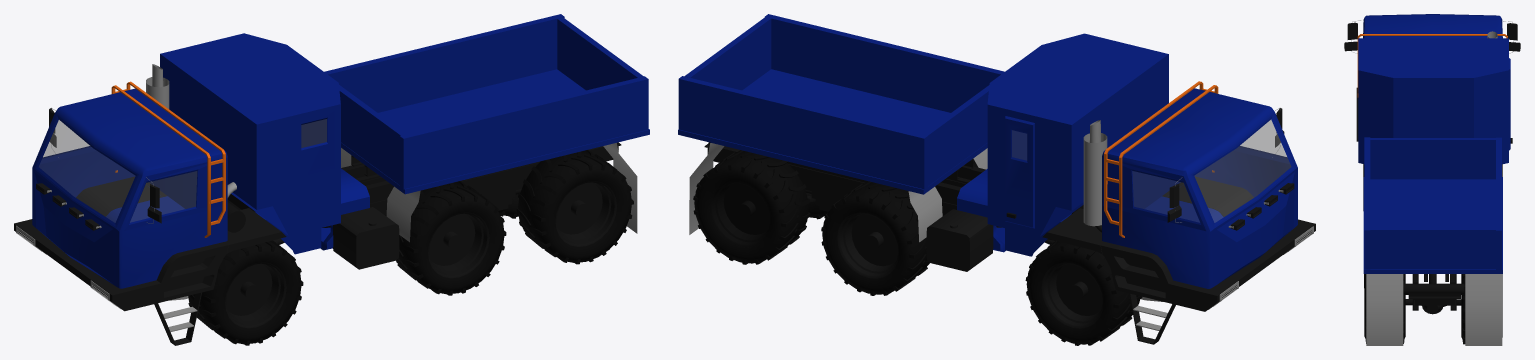
File: KamazArctica.fbx
The picture shows the model from 3 angles, left to right: view 1: azimuth 30°, elevation 25°; view 2: azimuth 150°, elevation 25°; view 3: azimuth 270°, elevation 25°; orthographic projection. The views are drawn at different scales.
Visible parts, largest first — view 1: Box010, Box007, Box016, Box015, Box008, Box006, Object087, Cylinder059, Cylinder056, Cylinder027, Object007, Box017 (+19 smaller); view 2: Box010, Box007, Box015, Box016, Box008, Box006, Object087, Cylinder068, Cylinder065, Cylinder062, Object007, Box017 (+19 smaller); view 3: Box010, Box008, Box018, Box017, Box007, Plane001, Plane005, Box016, Box015, Cylinder049, Box048, Cylinder059 (+6 smaller).
Part boxes in pixels (<box>): Box010: <box>160,33,340,235</box>; Box007: <box>32,88,227,288</box>; Box016: <box>399,76,648,189</box>; Box015: <box>324,14,564,112</box>; Box008: <box>341,69,649,194</box>; Box006: <box>14,176,228,311</box>; Object087: <box>39,120,196,222</box>; Cylinder059: <box>518,150,631,262</box>; Cylinder056: <box>396,181,504,294</box>; Cylinder027: <box>188,241,301,344</box>; Object007: <box>34,172,113,283</box>; Box017: <box>339,85,406,184</box>; Box010: <box>987,33,1168,236</box>; Box007: <box>1102,88,1297,288</box>; Box015: <box>678,76,927,189</box>; Box016: <box>765,14,1004,112</box>; Box008: <box>678,69,987,194</box>; Box006: <box>1101,176,1315,311</box>; Object087: <box>1132,120,1290,222</box>; Cylinder068: <box>694,151,808,263</box>; Cylinder065: <box>822,182,929,294</box>; Cylinder062: <box>1026,241,1139,344</box>; Object007: <box>1216,172,1294,284</box>; Box017: <box>922,85,989,185</box>; Box010: <box>1358,38,1510,164</box>; Box008: <box>1363,177,1502,273</box>; Box018: <box>1370,227,1495,269</box>; Box017: <box>1370,138,1495,179</box>; Box007: <box>1363,14,1502,38</box>; Plane001: <box>1366,274,1403,345</box>; Plane005: <box>1465,274,1502,345</box>; Box016: <box>1364,137,1370,269</box>; Box015: <box>1496,137,1501,270</box>; Cylinder049: <box>1403,283,1464,294</box>; Box048: <box>1357,34,1507,97</box>; Cylinder059: <box>1364,274,1405,338</box>.
Bounding box in the file's own units: 2051 × 812 × 740.
